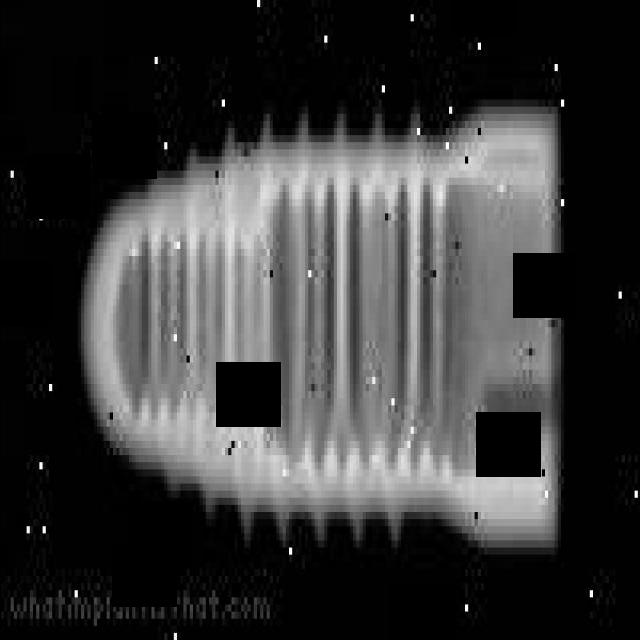Root canal obturation: (69, 96, 557, 556)
